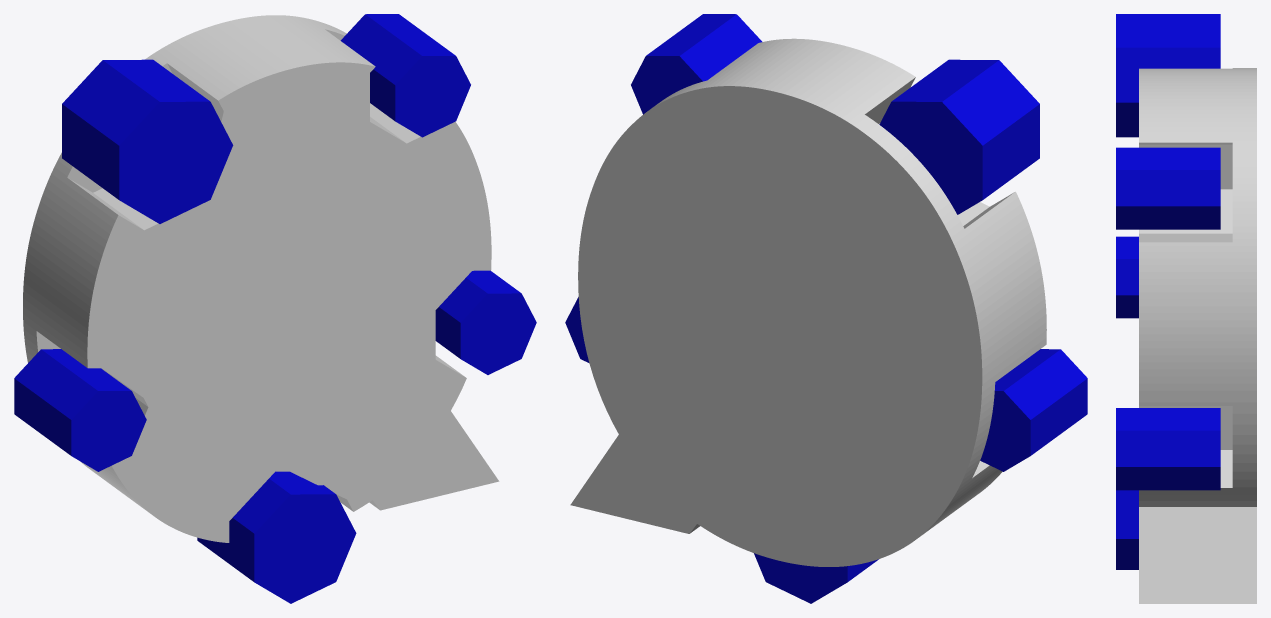
File: Ch_Lite_Q_01.fbx
3 renders of one model, left to right at view 1: azimuth 30°, elevation 25°; view 2: azimuth 150°, elevation 25°; view 3: azimuth 270°, elevation 25°, orthographic. The views are drawn at different scales.
Visible parts, largest first — view 1: sphere1; view 2: sphere1; view 3: sphere1.
Boxes of the visible parts, x1,y1,x2,y2 form: sphere1: (14, 14, 536, 603); sphere1: (565, 14, 1087, 603); sphere1: (1116, 14, 1256, 603).
Bounding box in the file's own units: 0.8325 × 0.9127 × 0.2387.
